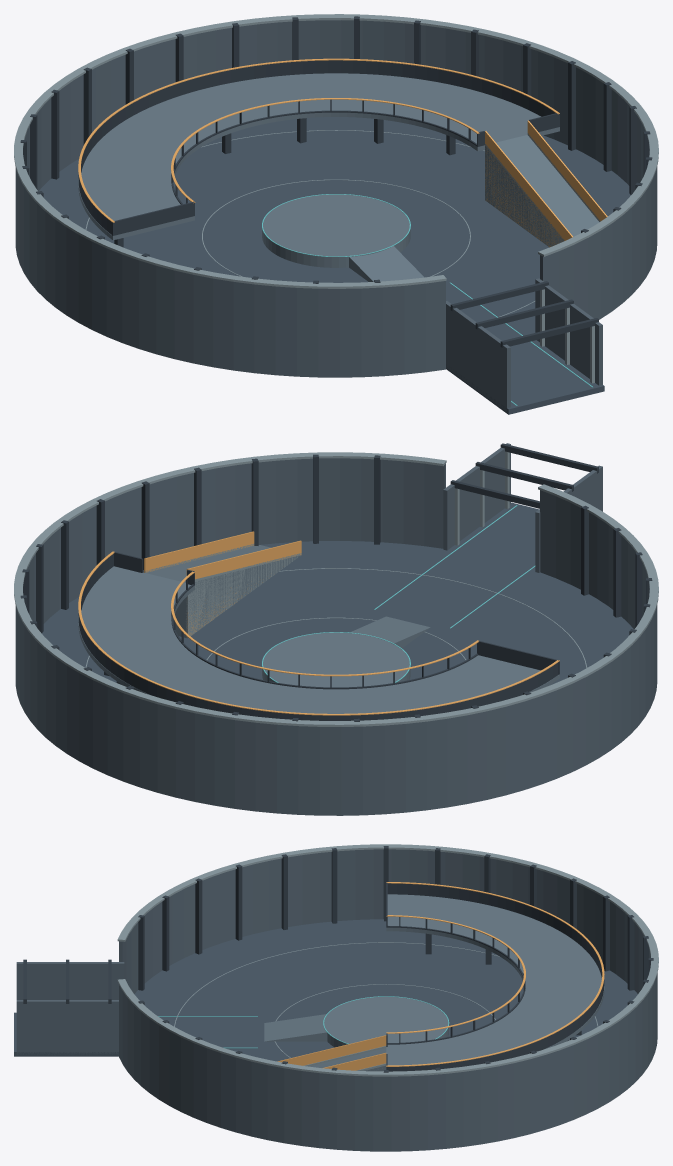
The model's file is edm-empty.glb.
3 views of the same model, one above another, from view 1: azimuth 30°, elevation 25°; view 2: azimuth 150°, elevation 25°; view 3: azimuth 270°, elevation 25° (orthographic). The views are drawn at different scales.
Parts seen in each view (by area): view 1: Arena shell, Arena floor, North balcony, Upper coping, Central stage, Balcony rail, Shell ribs, Entry gallery, Balcony ramp, Entry floor, Ramp rail, Portal frames (+6 smaller); view 2: Arena shell, Arena floor, North balcony, Upper coping, Shell ribs, Central stage, Balcony rail, Entry gallery, Balcony ramp, Ramp curb, Entry floor, Ramp rail (+5 smaller); view 3: Arena shell, Arena floor, North balcony, Entry gallery, Upper coping, Shell ribs, Balcony rail, Central stage, Rail cap, Ramp rail, Stage access, Floor band (+3 smaller).
Boxes of the visible parts, <box> form: Arena shell: <box>15,20,657,377</box>; Arena floor: <box>39,117,630,348</box>; North balcony: <box>78,73,559,240</box>; Upper coping: <box>14,14,658,288</box>; Central stage: <box>262,194,410,267</box>; Balcony rail: <box>78,60,559,235</box>; Shell ribs: <box>20,16,652,283</box>; Entry gallery: <box>446,278,602,411</box>; Balcony ramp: <box>485,135,599,245</box>; Entry floor: <box>446,340,604,414</box>; Ramp rail: <box>485,120,607,246</box>; Portal frames: <box>450,281,598,383</box>; Arena shell: <box>15,458,657,815</box>; Arena floor: <box>42,541,633,685</box>; North balcony: <box>78,566,559,713</box>; Upper coping: <box>14,452,658,726</box>; Shell ribs: <box>20,454,652,721</box>; Central stage: <box>262,632,410,687</box>; Balcony rail: <box>78,553,558,720</box>; Entry gallery: <box>443,443,602,572</box>; Balcony ramp: <box>146,545,300,637</box>; Ramp curb: <box>143,544,301,638</box>; Entry floor: <box>443,502,538,574</box>; Ramp rail: <box>144,531,301,634</box>; Arena shell: <box>119,849,657,1151</box>; Arena floor: <box>134,919,637,1061</box>; North balcony: <box>386,894,604,1065</box>; Entry gallery: <box>16,962,124,1055</box>; Upper coping: <box>117,844,658,1076</box>; Shell ribs: <box>138,846,653,1072</box>; Balcony rail: <box>386,883,604,1071</box>; Central stage: <box>324,996,448,1047</box>; Rail cap: <box>386,882,604,1066</box>; Ramp rail: <box>277,1035,386,1070</box>; Stage access: <box>264,1014,327,1041</box>; Floor band: <box>174,942,598,1058</box>.
Size of the model in its own units: 42.49 by 6.7 by 50.25.
